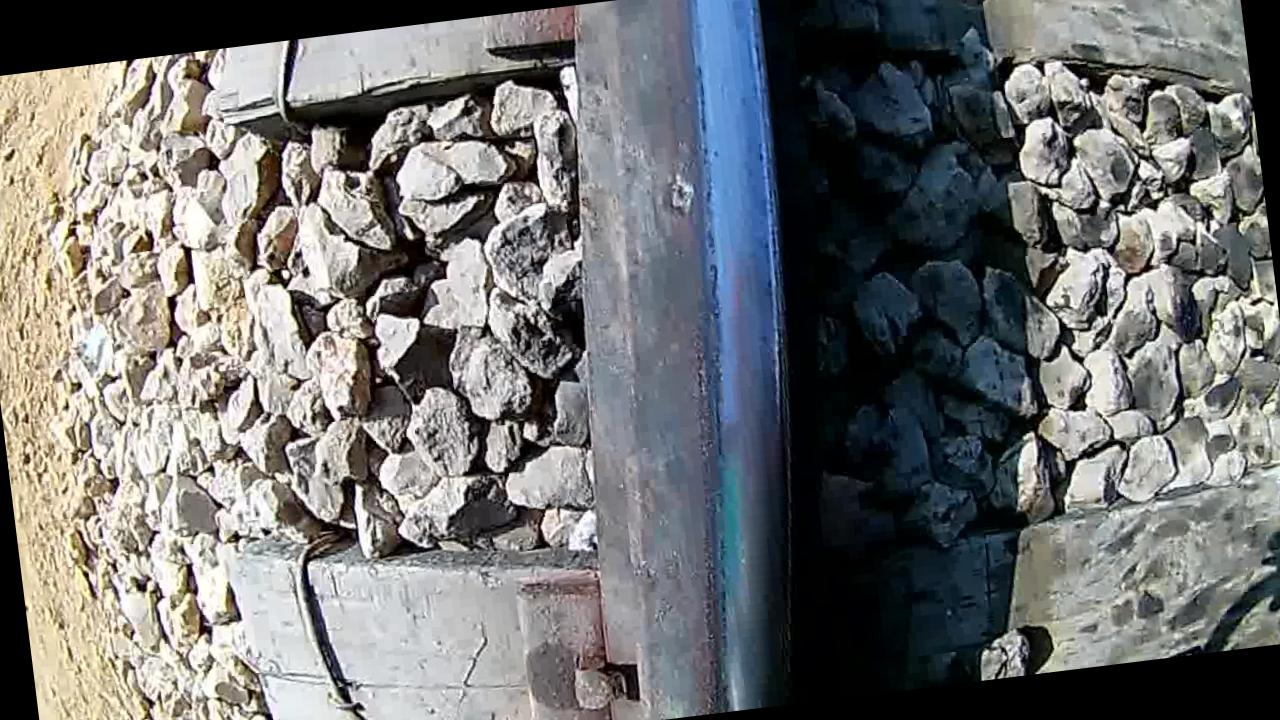crack: (566, 68, 823, 720)
